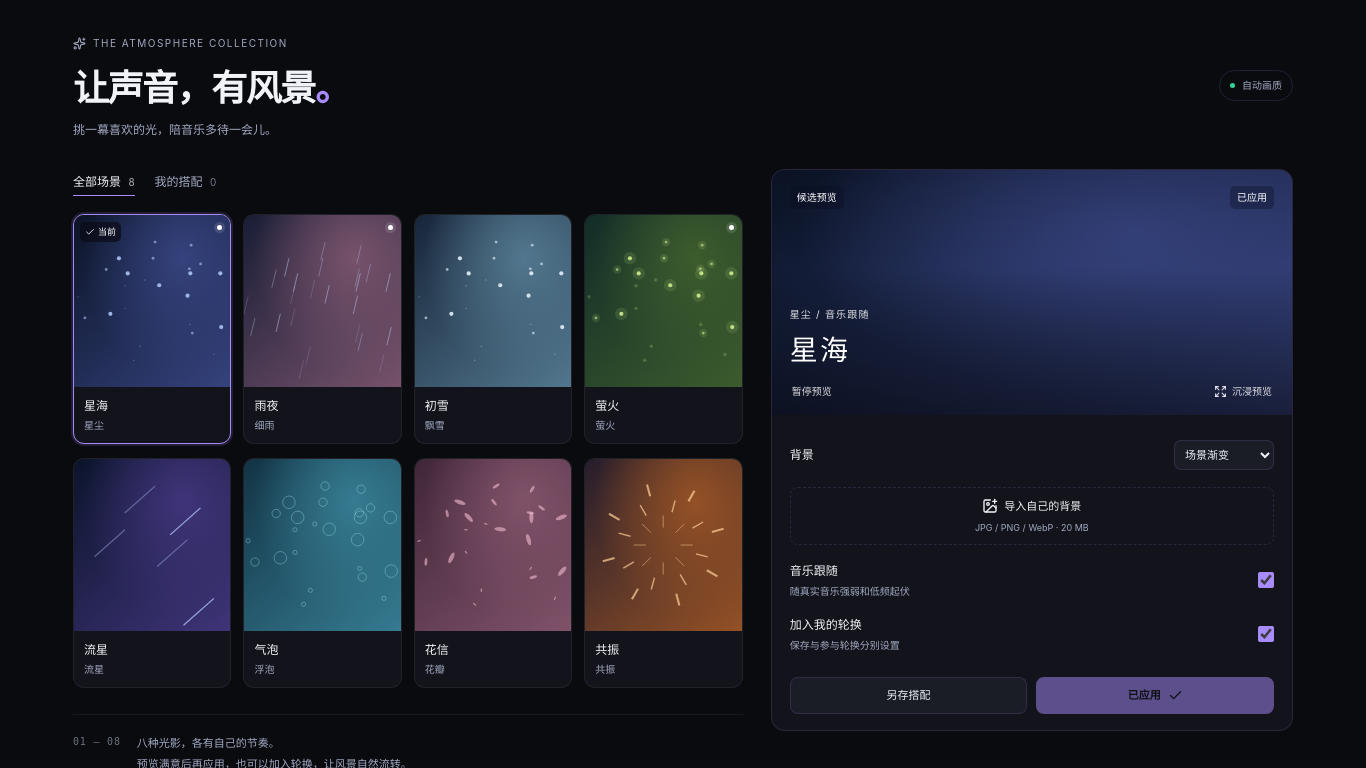
沉浸预览退出回到入口焦点，不改变当前搭配；卸载解除避让
Step 1. Click the button with aria-label "预览萤火" → (663, 329), box [584,214,743,444]
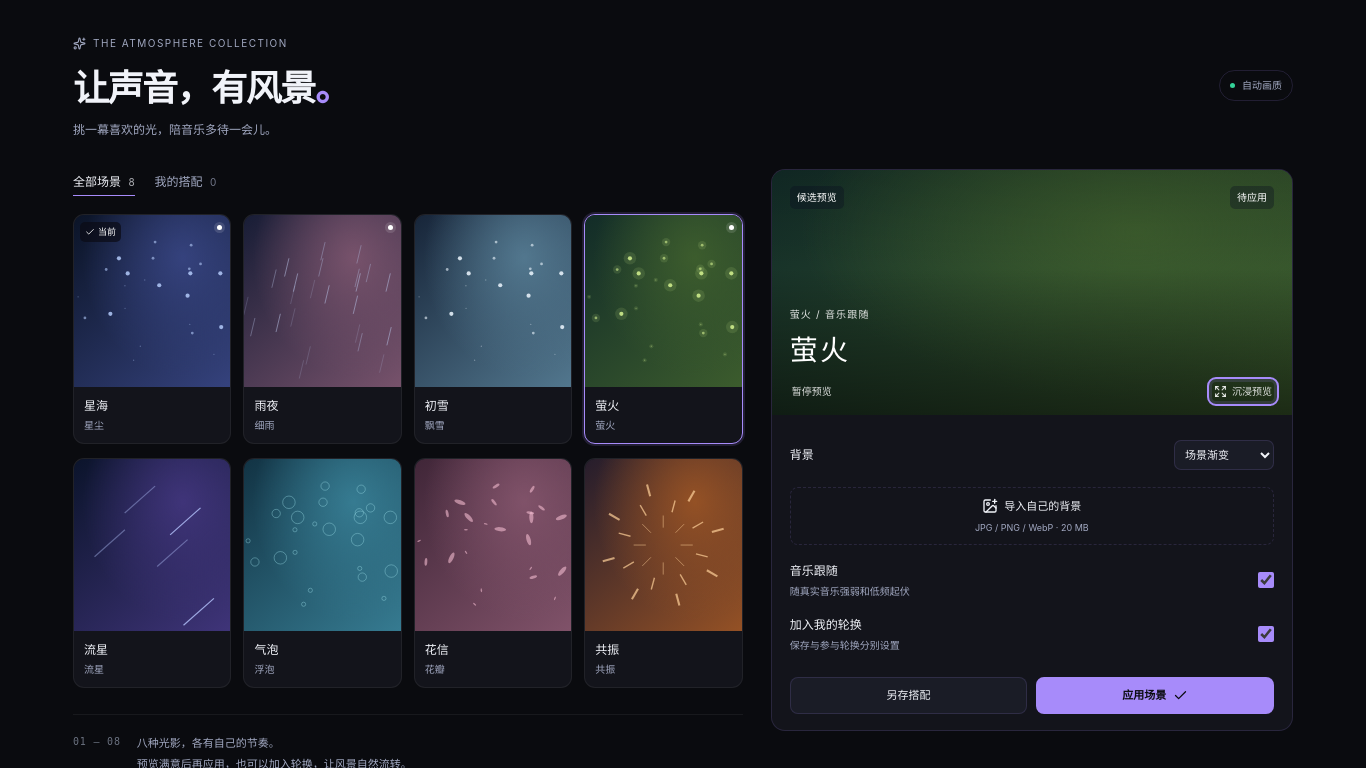
Step 2. Click the button "沉浸预览" → (1243, 392), box [1212,382,1274,401]
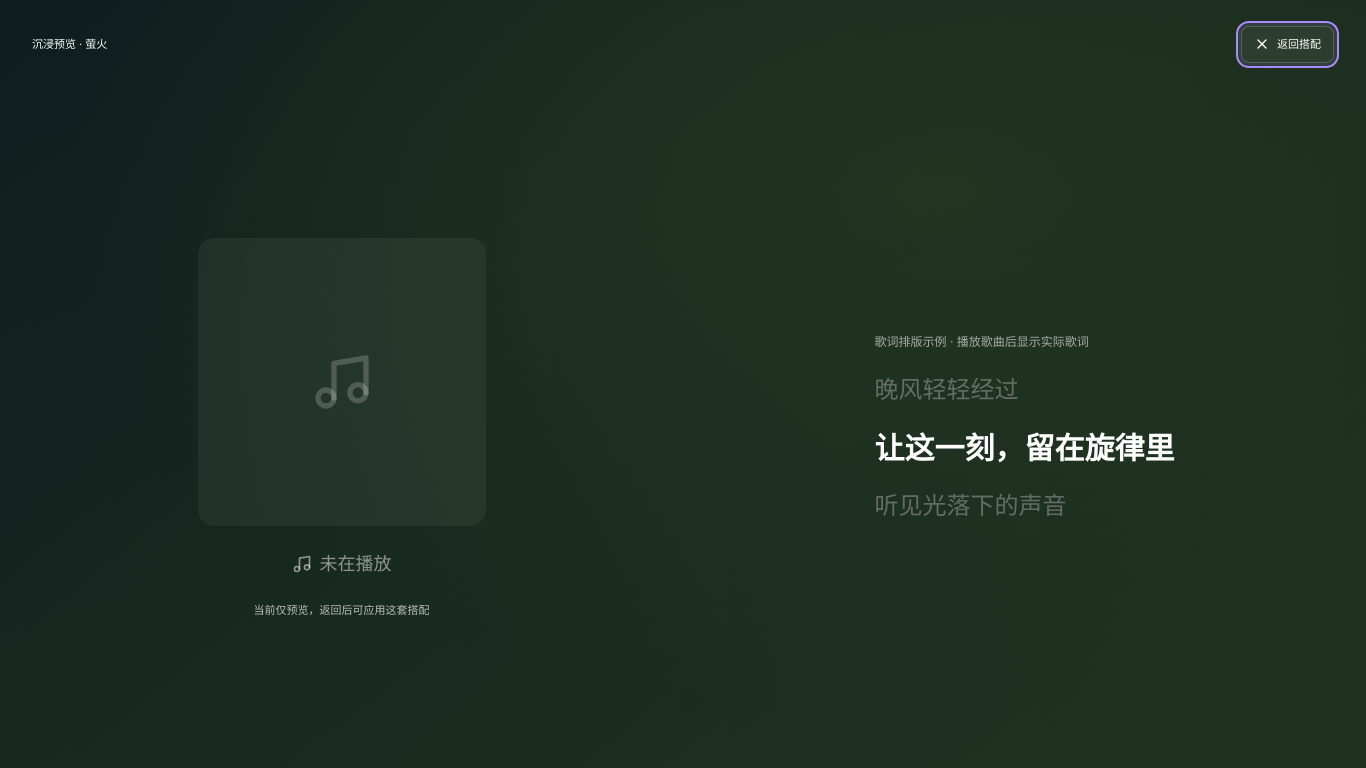
Now the dialog "沉浸预览" is shown
Now the element "歌词" is shown, box [874,334,1174,520]
Now the element labelled "歌词排版示例" is shown, box [874,334,1174,522]
Step 3. Press Escape in the button "返回搭配", box [1241,26,1334,62]
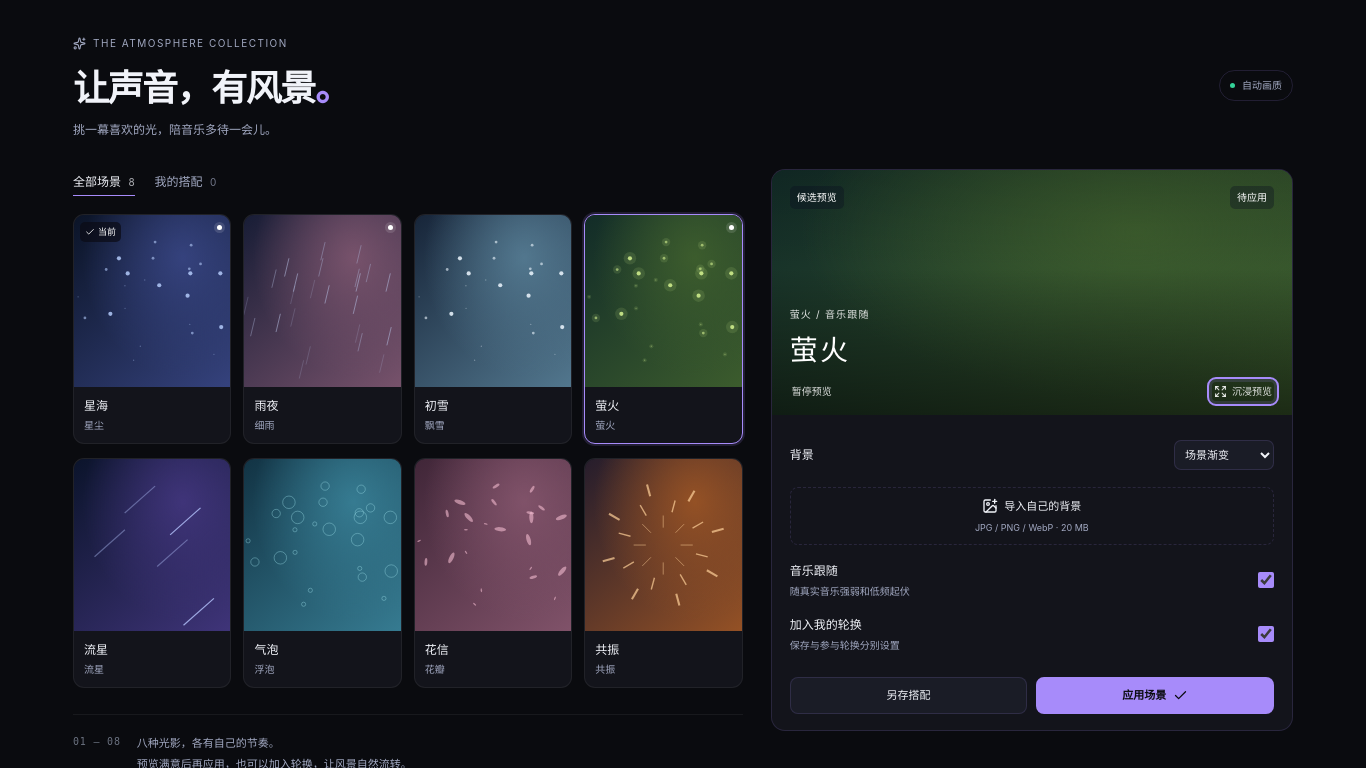
Now the dialog is gone
